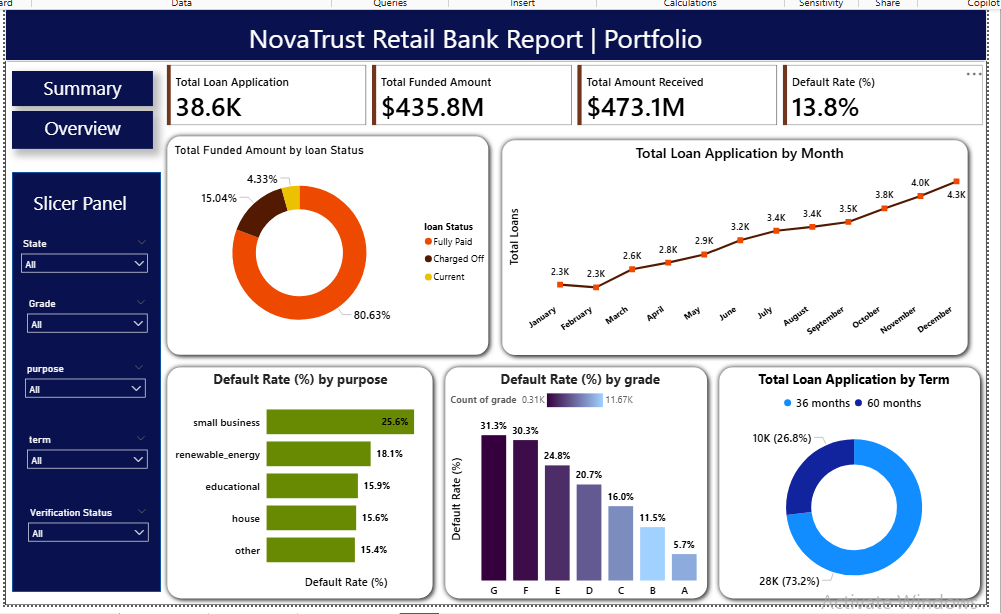

The dashboard page shown, as its layout file describes it:
{"tool":"powerbi","page":{"name":"Portfolio","canvas":[1400,850],"ordinal":0},"visuals":[{"type":"shape","box":[0,0,1400,850.2],"z":0},{"type":"shape","box":[0,0,1400,74.7],"z":1000},{"type":"cardVisual","fields":{"Data":["NovaTrust Retail Bank  Analysis.Total Loans","NovaTrust Retail Bank  Analysis.Total Loan Amount","NovaTrust Retail Bank  Analysis.Total Payment","NovaTrust Retail Bank  Analysis.Default Rate (%)"]},"box":[224.9,74.3,1175.1,97.8],"z":2000},{"type":"shape","box":[223.2,172.6,476,329.5],"z":3000},{"type":"shape","box":[222.5,501.9,396.3,347.6],"z":4000},{"type":"shape","box":[618.8,501.9,391.4,347.6],"z":5000},{"type":"shape","box":[700.9,177.8,681.7,324.3],"z":6000},{"type":"donutChart","title":"Total Funded Amount by loan Status","fields":{"Category":["NovaTrust Retail Bank  Analysis.loan_status"],"Y":["NovaTrust Retail Bank  Analysis.Total Loan Amount"]},"box":[237.1,191.6,461.3,294],"z":7000},{"type":"lineChart","title":"Total Loan Application by Month","fields":{"Category":["NovaTrust Retail Bank  Analysis.issue_date.Variation.Date Hierarchy.Month"],"Y":["NovaTrust Retail Bank  Analysis.Total Loans"]},"box":[713.1,191.8,669.5,294.6],"z":8000},{"type":"columnChart","fields":{"Category":["NovaTrust Retail Bank  Analysis.grade"],"Y":["NovaTrust Retail Bank  Analysis.Default Rate (%)"]},"box":[630.2,514.8,380,334.6],"z":9000},{"type":"barChart","fields":{"Y":["NovaTrust Retail Bank  Analysis.Default Rate (%)"],"Category":["NovaTrust Retail Bank  Analysis.purpose"]},"box":[237.1,514.8,368.7,316.7],"z":10000},{"type":"shape","box":[1010.2,501.9,389.8,347.6],"z":11000},{"type":"donutChart","title":"Total Loan Application by Term","fields":{"Category":["NovaTrust Retail Bank  Analysis.term"],"Y":["NovaTrust Retail Bank  Analysis.Total Loans"]},"box":[1023.2,514.8,376.8,334.6],"z":12000},{"type":"textbox","box":[320,9.7,703.2,65],"z":13000},{"type":"textbox","box":[10,88.4,201.1,49.9],"z":14000},{"type":"textbox","box":[10,145.5,201.1,54.2],"z":15000},{"type":"shape","box":[10,232.5,212.5,599],"z":16000},{"type":"slicer","fields":{"Values":["NovaTrust Retail Bank  Analysis.address_state"]},"box":[13,321.6,201.4,65],"z":17000},{"type":"slicer","fields":{"Values":["NovaTrust Retail Bank  Analysis.grade"]},"box":[21.1,406,191.6,65],"z":18000},{"type":"slicer","fields":{"Values":["NovaTrust Retail Bank  Analysis.purpose"]},"box":[17.9,498.6,191.6,66.6],"z":19000},{"type":"slicer","fields":{"Values":["NovaTrust Retail Bank  Analysis.term"]},"box":[21.1,600.9,191.6,71.5],"z":20000},{"type":"slicer","fields":{"Values":["NovaTrust Retail Bank  Analysis.verification_status"]},"box":[22.7,704.9,191.6,68.2],"z":21000},{"type":"textbox","box":[36,252,174,46],"z":22000}]}

Visuals, with their boxes in screenshot pixels (x1, y1, x2, y2):
shape: (x1=0, y1=5, x2=987, y2=605)
shape: (x1=0, y1=5, x2=987, y2=58)
cardVisual - NovaTrust Retail Bank  Analysis.Total Loans x NovaTrust Retail Bank  Analysis.Total Loan Amount: (x1=159, y1=58, x2=987, y2=127)
shape: (x1=157, y1=127, x2=493, y2=359)
shape: (x1=157, y1=359, x2=436, y2=604)
shape: (x1=436, y1=359, x2=712, y2=604)
shape: (x1=494, y1=131, x2=975, y2=359)
"Total Funded Amount by loan Status" donutChart: (x1=167, y1=140, x2=492, y2=348)
"Total Loan Application by Month" lineChart: (x1=503, y1=140, x2=975, y2=348)
columnChart - NovaTrust Retail Bank  Analysis.grade x NovaTrust Retail Bank  Analysis.Default Rate (%): (x1=444, y1=368, x2=712, y2=604)
barChart - NovaTrust Retail Bank  Analysis.Default Rate (%) x NovaTrust Retail Bank  Analysis.purpose: (x1=167, y1=368, x2=427, y2=592)
shape: (x1=712, y1=359, x2=987, y2=604)
"Total Loan Application by Term" donutChart: (x1=721, y1=368, x2=987, y2=604)
textbox: (x1=226, y1=12, x2=721, y2=58)
textbox: (x1=7, y1=68, x2=149, y2=103)
textbox: (x1=7, y1=108, x2=149, y2=146)
shape: (x1=7, y1=169, x2=157, y2=592)
slicer - NovaTrust Retail Bank  Analysis.address_state: (x1=9, y1=232, x2=151, y2=278)
slicer - NovaTrust Retail Bank  Analysis.grade: (x1=15, y1=291, x2=150, y2=337)
slicer - NovaTrust Retail Bank  Analysis.purpose: (x1=13, y1=357, x2=148, y2=404)
slicer - NovaTrust Retail Bank  Analysis.term: (x1=15, y1=429, x2=150, y2=479)
slicer - NovaTrust Retail Bank  Analysis.verification_status: (x1=16, y1=502, x2=151, y2=550)
textbox: (x1=25, y1=183, x2=148, y2=215)
